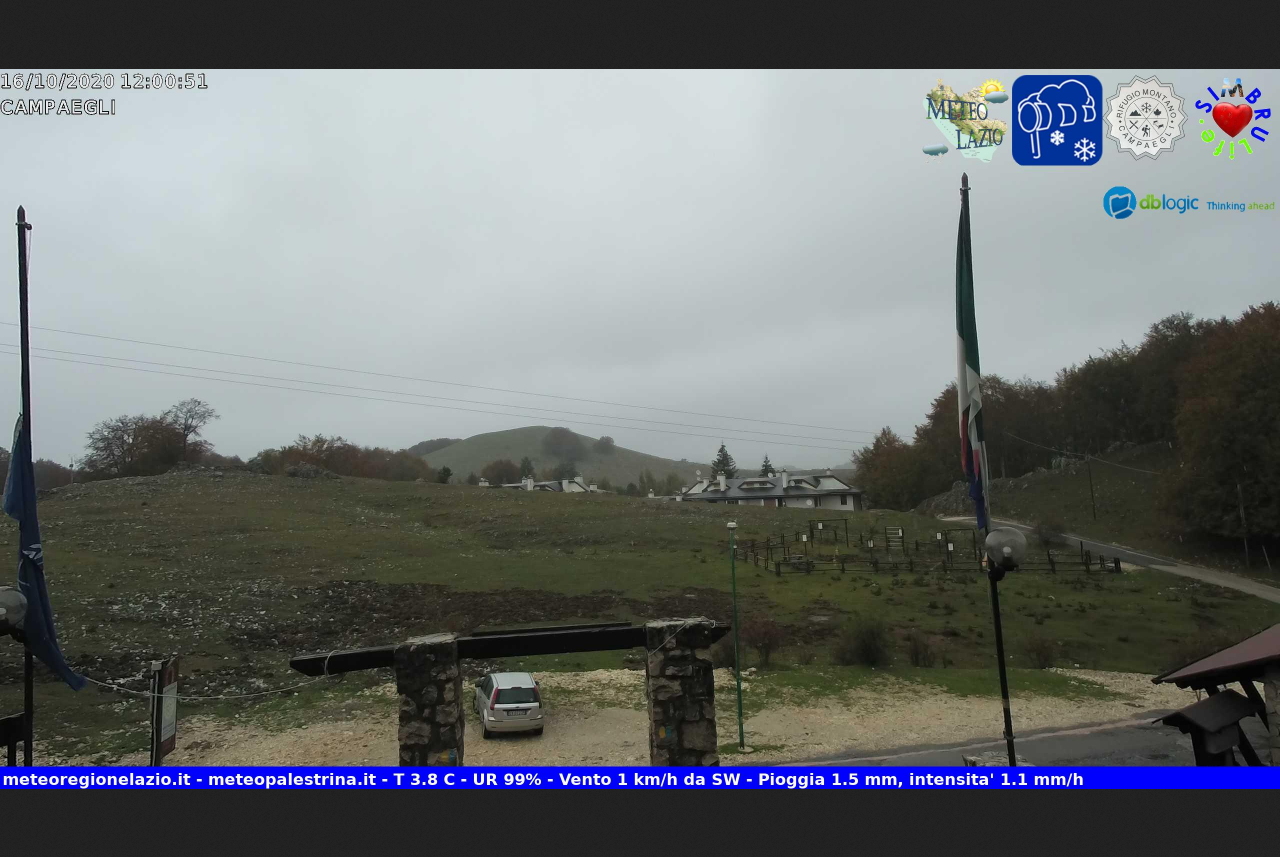no: (934, 157, 1020, 547)
